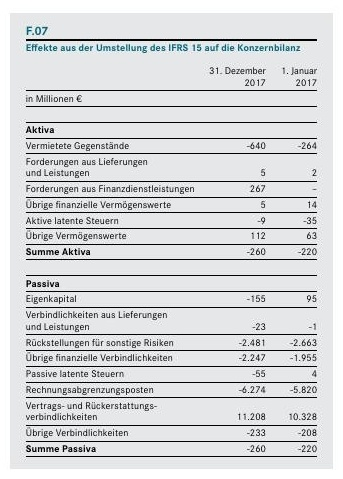table: (0, 0, 343, 479)
